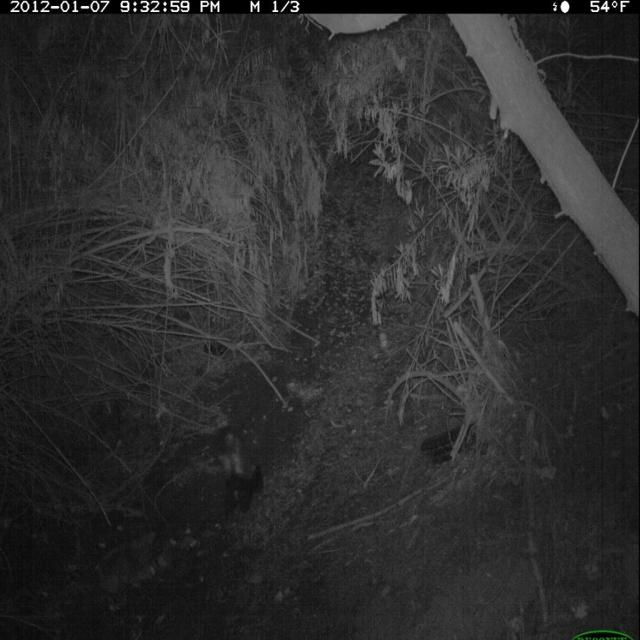skunk: (206, 418, 272, 524)
